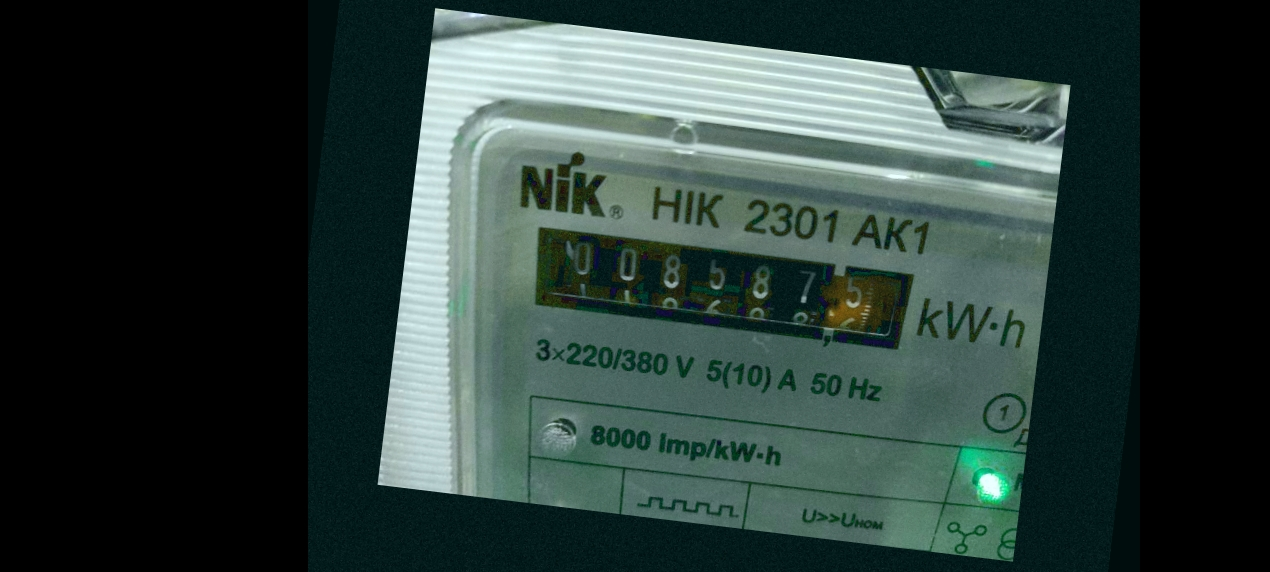0: (614, 241, 643, 284)
1: (568, 236, 597, 279)
5: (841, 270, 870, 312), (704, 253, 732, 294)
7: (792, 265, 820, 308)
8: (657, 248, 687, 292), (749, 259, 774, 303)
screen: (507, 204, 936, 372)
